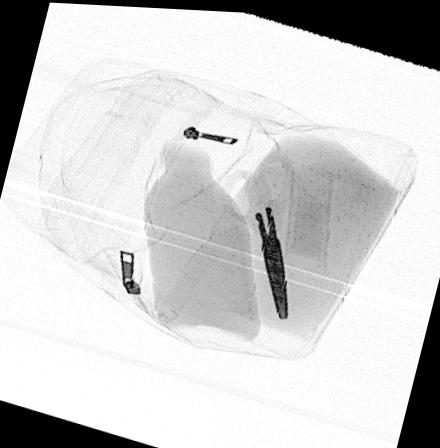Scissors: (214, 148, 297, 318)
